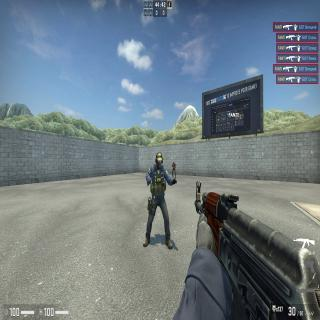CT-Body: (148, 151, 166, 247)
CT-Head: (156, 153, 162, 168)
T-Body: (172, 161, 175, 177)
T-Head: (173, 161, 174, 164)
